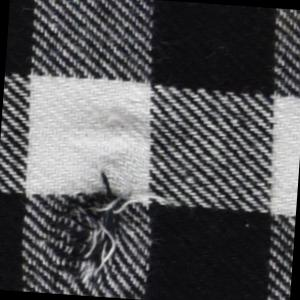Damage: (39, 166, 174, 287)
